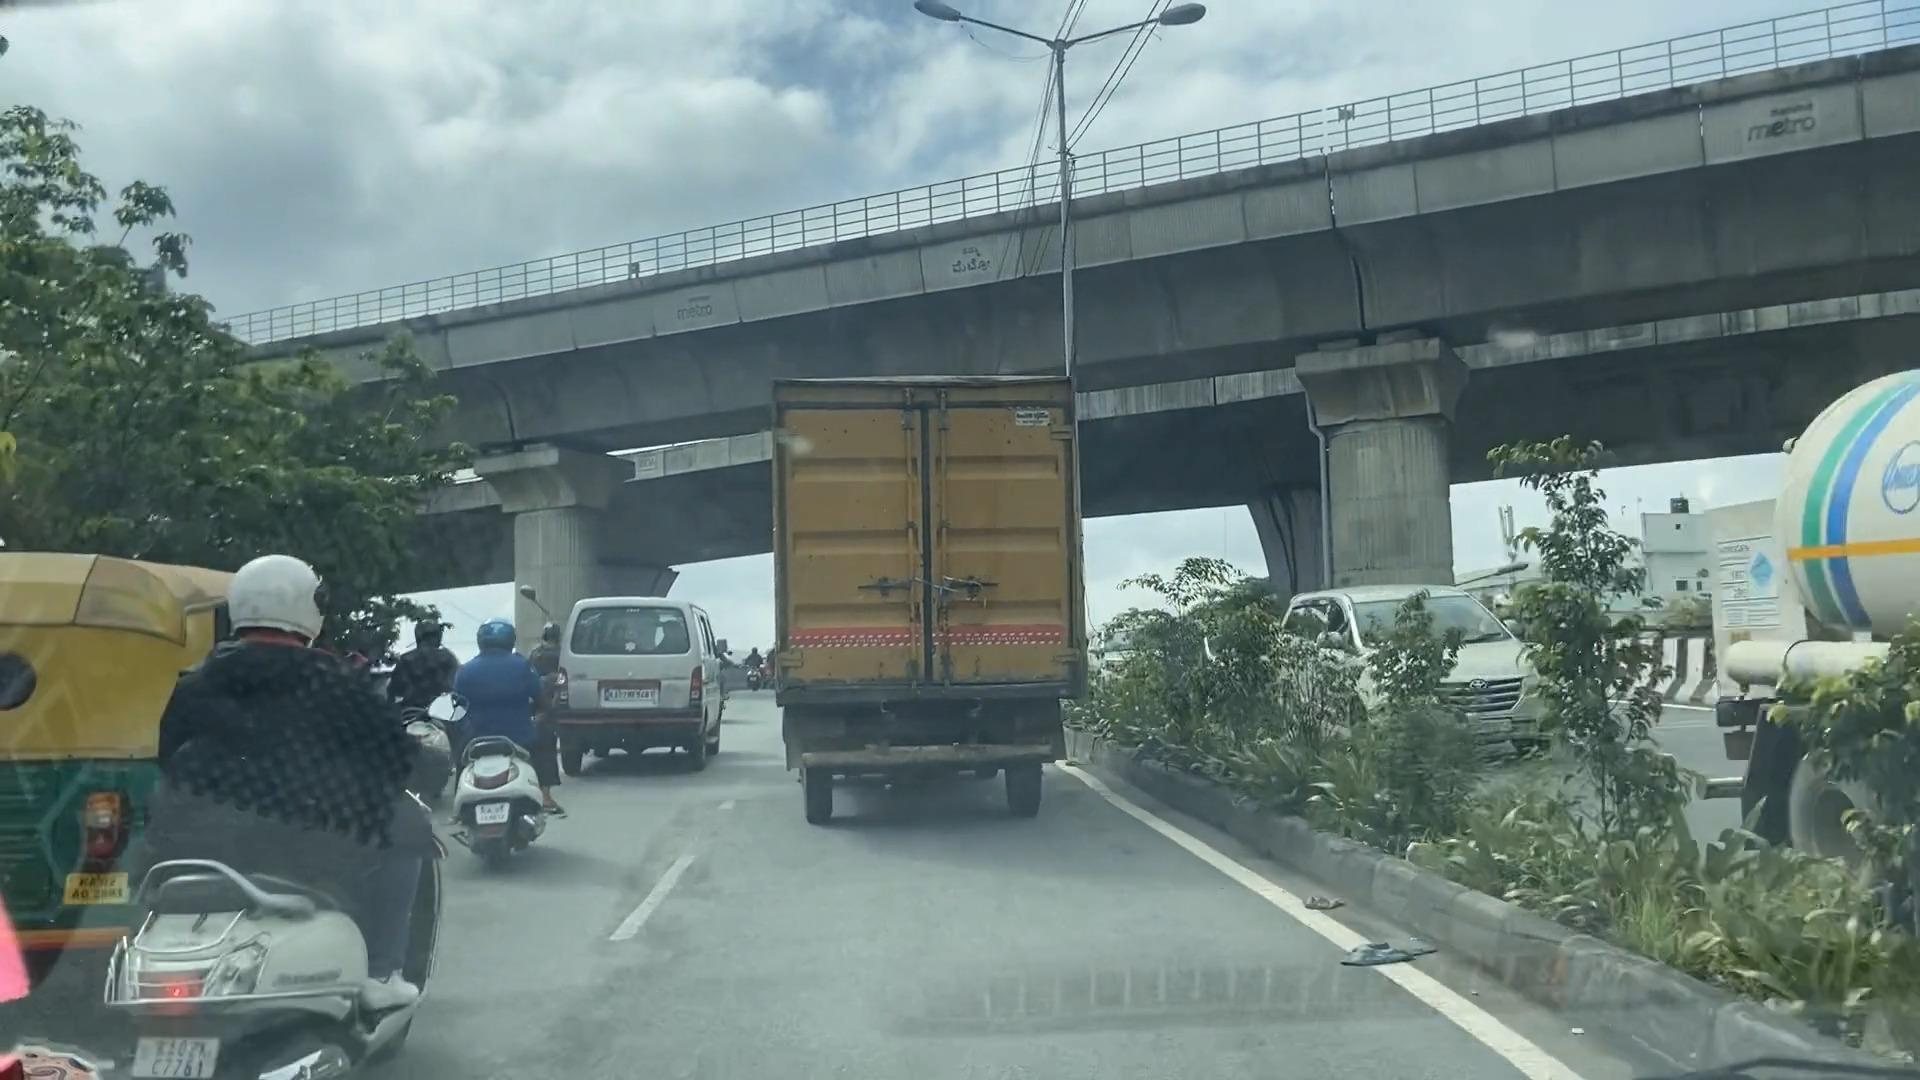HMV: (766, 377, 1104, 845)
LMV: (440, 607, 524, 864)
